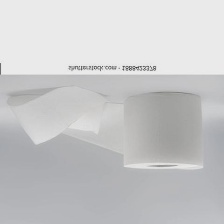tissue: (1, 81, 209, 176)
